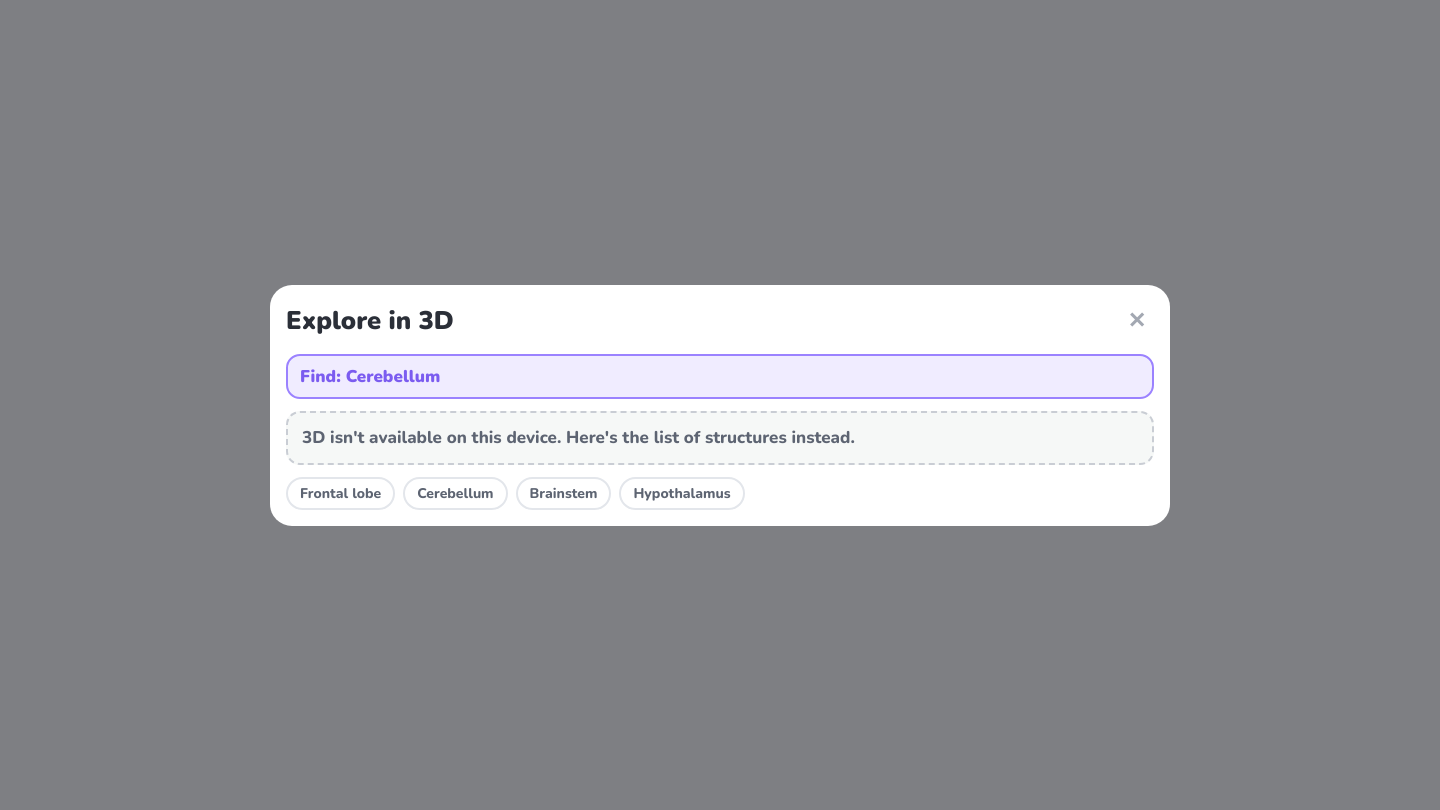
Test: without WebGL, the Explore pop-up offers the structures as a list to answer from
Expected: the text "Find: Cerebellum" is shown, [300,364,440,389]
Click the button "Brainstem".
click(564, 493)  # box [516,476,612,510]
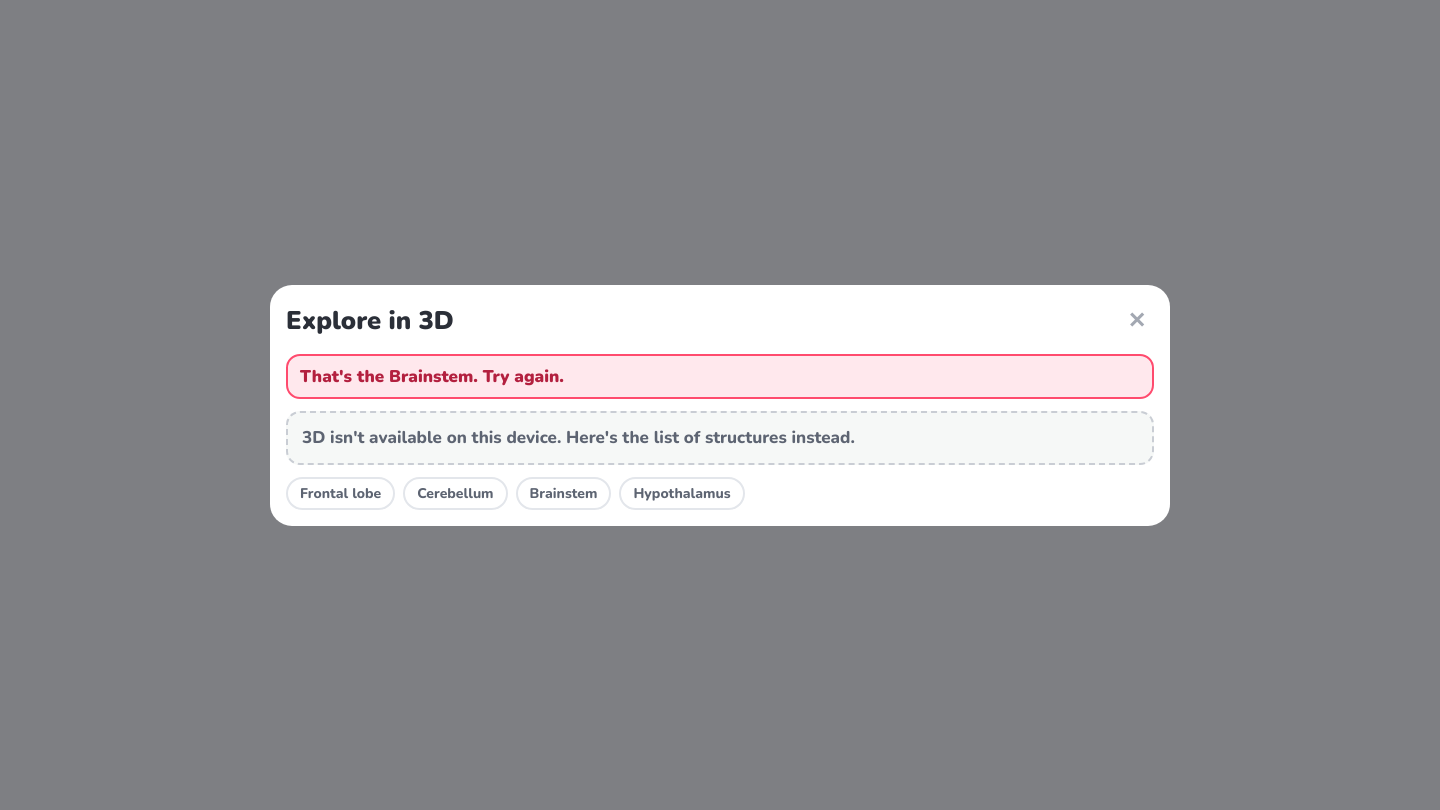
Expected: the text "That's the Brainstem. Try again." is shown, [300,364,564,389]
Click the button "Cerebellum".
click(455, 493)  # box [403,476,508,510]
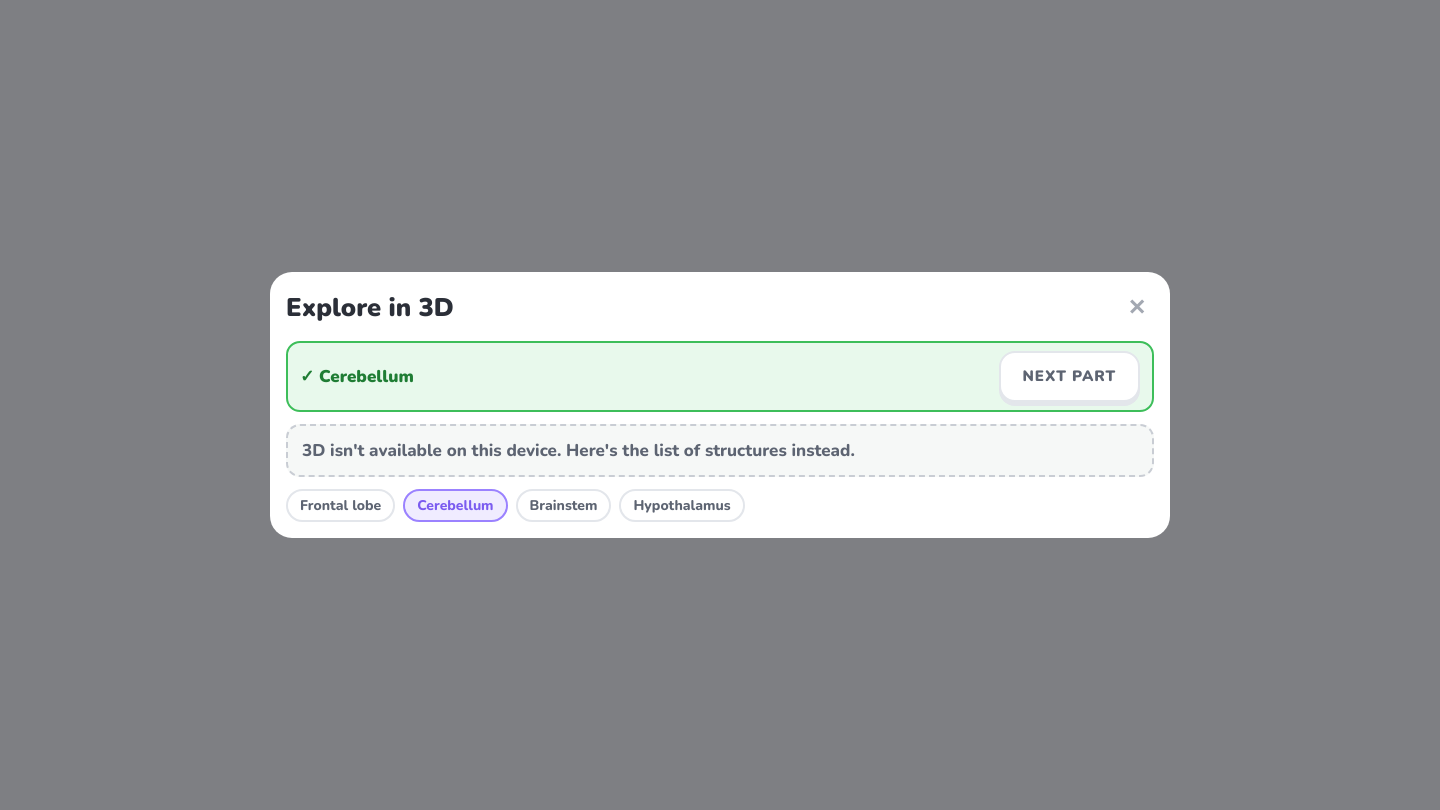
Expected: the text "✓ Cerebellum" is shown, [300,364,414,389]
